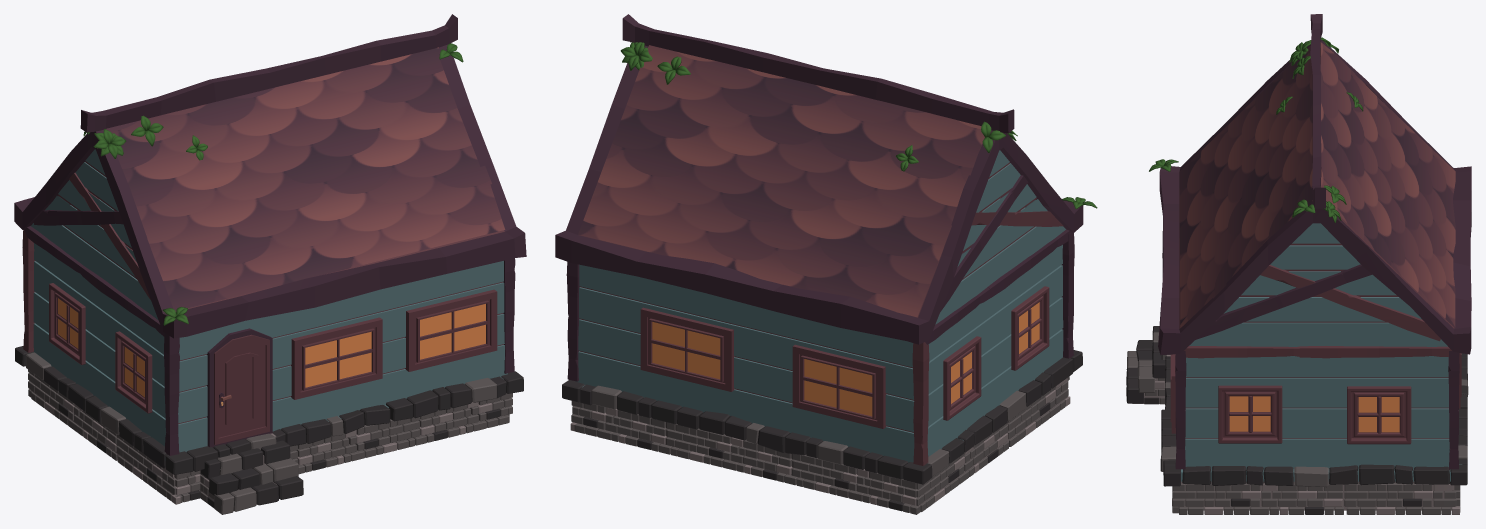
The model's file is casa-madeira7.fbx.
3 views of the same model, side by side, from view 1: azimuth 30°, elevation 25°; view 2: azimuth 150°, elevation 25°; view 3: azimuth 270°, elevation 25° (orthographic). The views are drawn at different scales.
Visible parts, largest first — view 1: CasaMadeira7, PortaCasaMadeira7; view 2: CasaMadeira7; view 3: CasaMadeira7.
Boxes of the visible parts, x1,y1,x2,y2 form: CasaMadeira7: (14, 14, 526, 514); PortaCasaMadeira7: (214, 334, 269, 444); CasaMadeira7: (555, 14, 1097, 514); CasaMadeira7: (1126, 14, 1471, 514).
Size of the model in its own units: 5.24 by 4.61 by 4.3.
